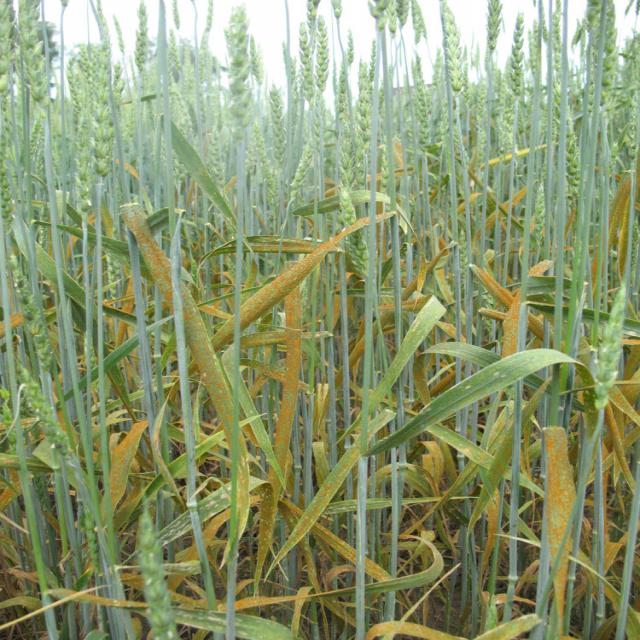wheat-powdery-mildew: (160, 515, 192, 546), (174, 611, 204, 620), (326, 506, 356, 515), (415, 401, 431, 415), (200, 500, 216, 510), (206, 617, 225, 625), (206, 610, 226, 616), (491, 369, 506, 377), (204, 512, 217, 521), (464, 383, 475, 391), (218, 494, 228, 501)
